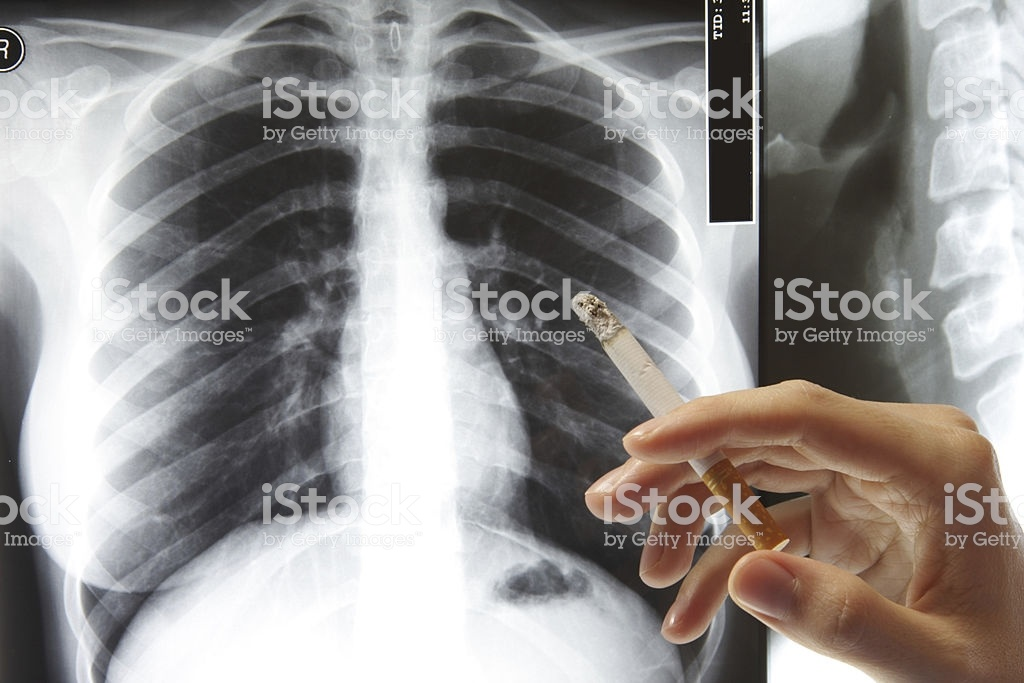sigaretta: (577, 297, 786, 548)
